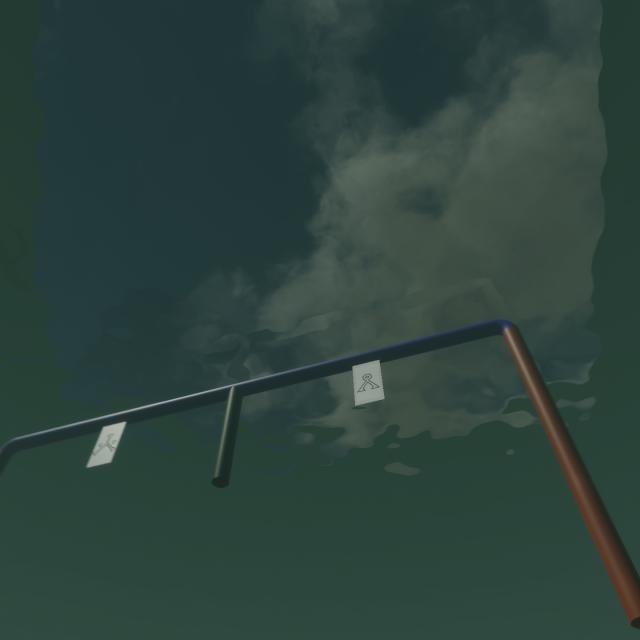gate: (10, 321, 640, 640)
